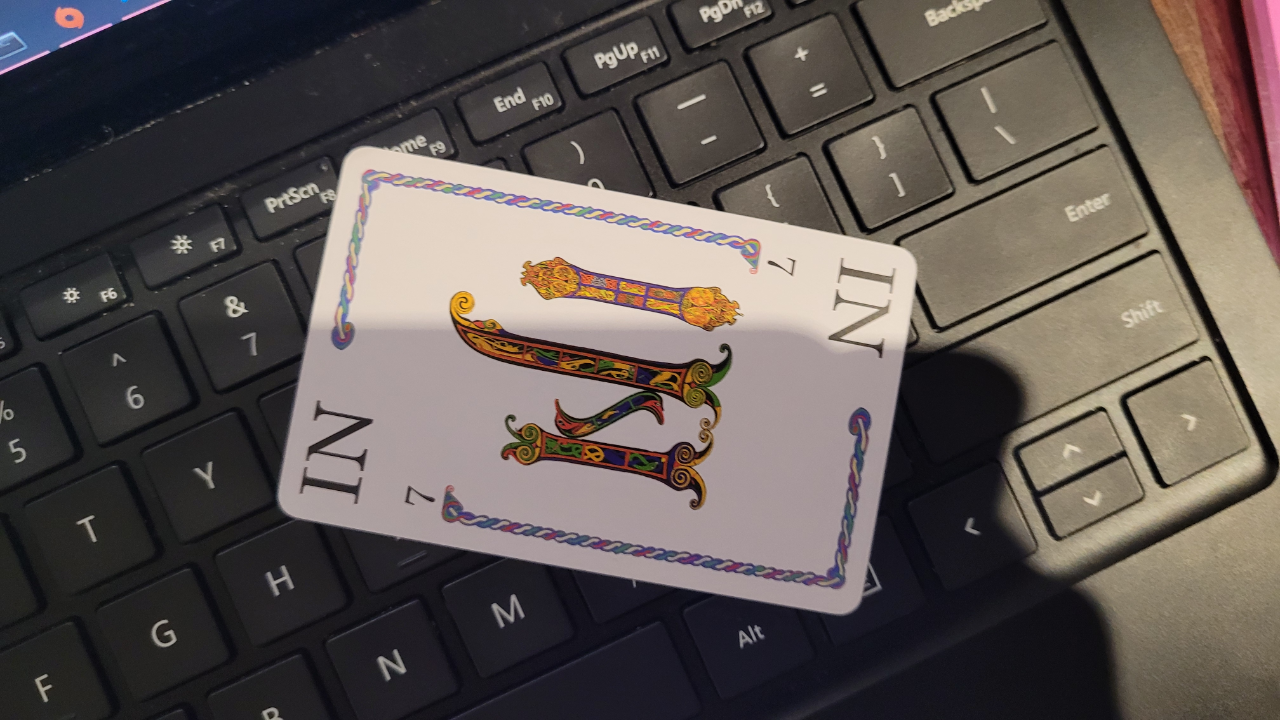quiddler_card: (253, 130, 931, 633)
